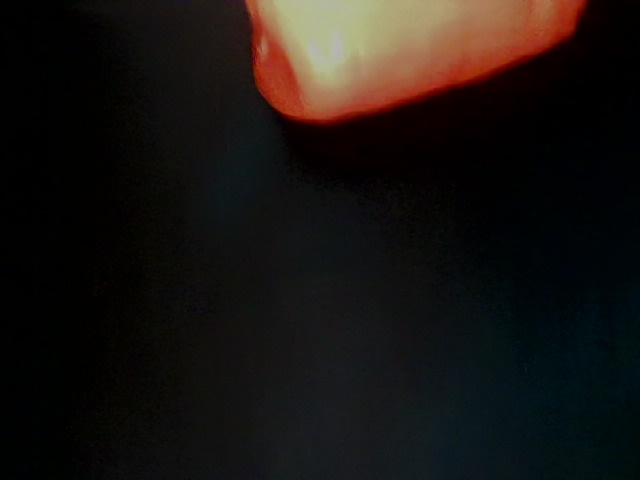KHSLJ: (1, 1, 369, 187)
